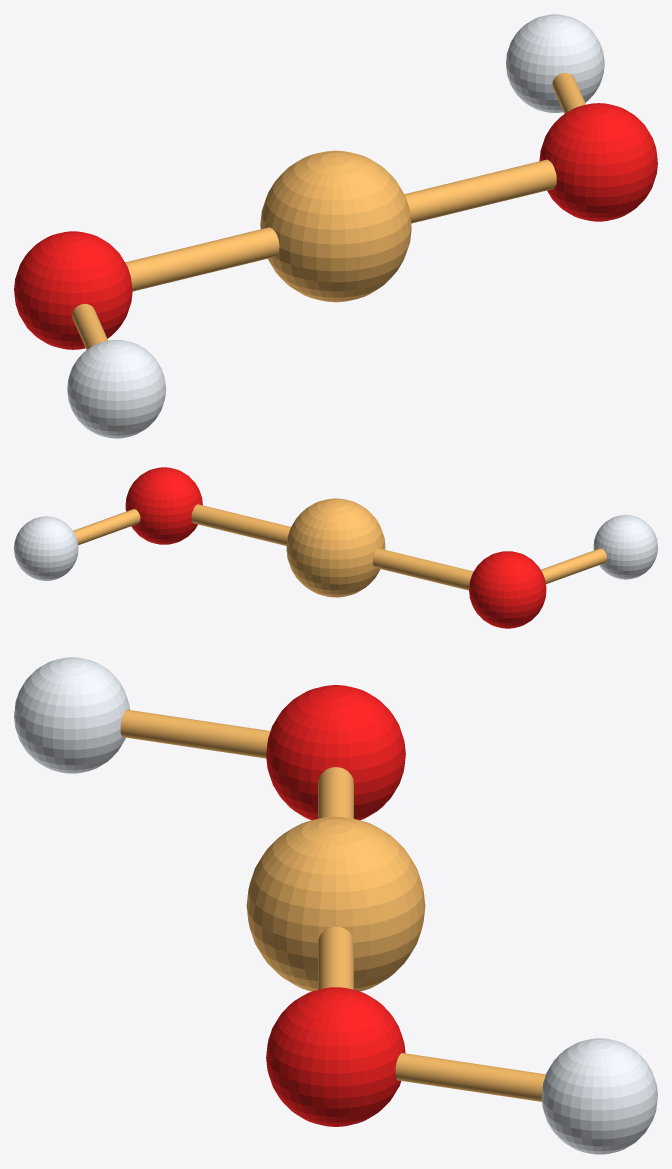
The model's file is calcium_hydroxide.fbx.
3 renders of one model, top to bottom at view 1: azimuth 30°, elevation 25°; view 2: azimuth 150°, elevation 25°; view 3: azimuth 270°, elevation 25°, orthographic. The views are drawn at different scales.
Visible parts, largest first — view 1: calcium_hydroxide; view 2: calcium_hydroxide; view 3: calcium_hydroxide.
Boxes of the visible parts, box(x1,y1,x2,y2) form: calcium_hydroxide: box(14, 14, 657, 438); calcium_hydroxide: box(14, 467, 657, 628); calcium_hydroxide: box(14, 657, 657, 1154).
Bounding box in the file's own units: 262 × 46 × 166.
